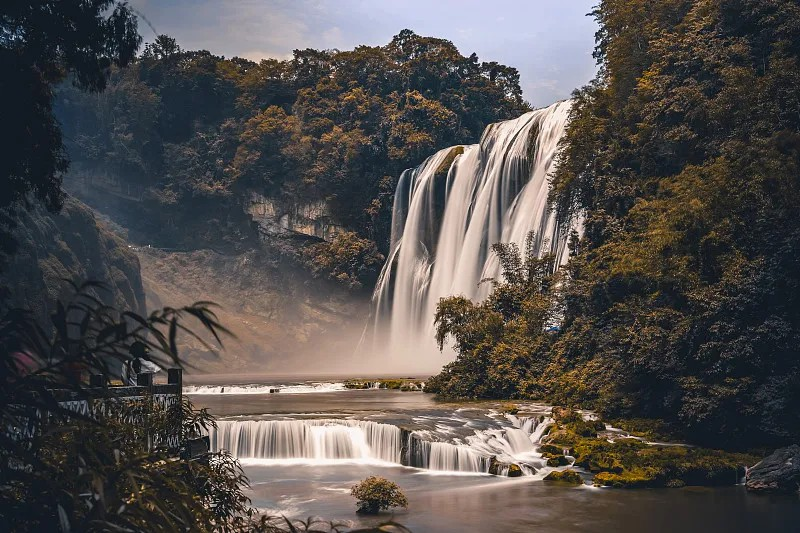Huangguoshu: (366, 96, 585, 368)
